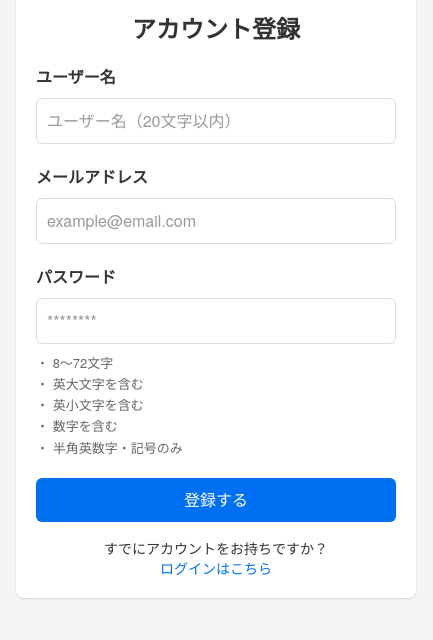
Test: アカウント登録画面 › signup が返した項目ごとのエラーを該当の入力欄に表示し、入力し直すと消える
Type "taro" into the field labelled "ユーザー名" at (216, 121), box [36, 98, 396, 144]
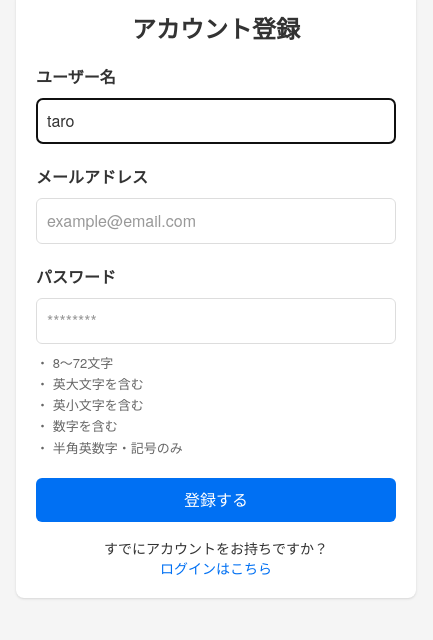
Type "taro@example.com" into the field labelled "メールアドレス" at (216, 221), box [36, 198, 396, 244]
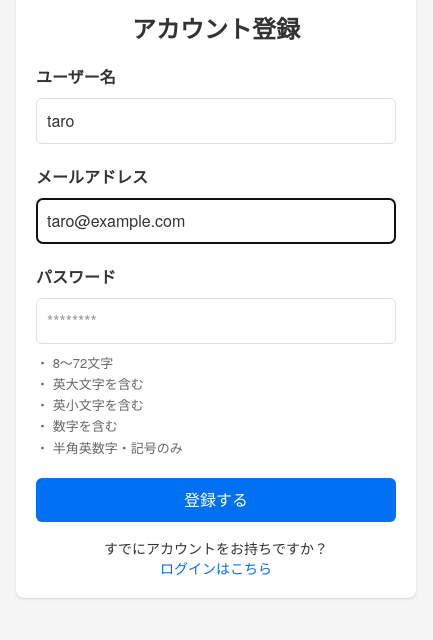
Type "Password123" into the password field labelled "パスワード" at (216, 321), box [36, 298, 396, 344]
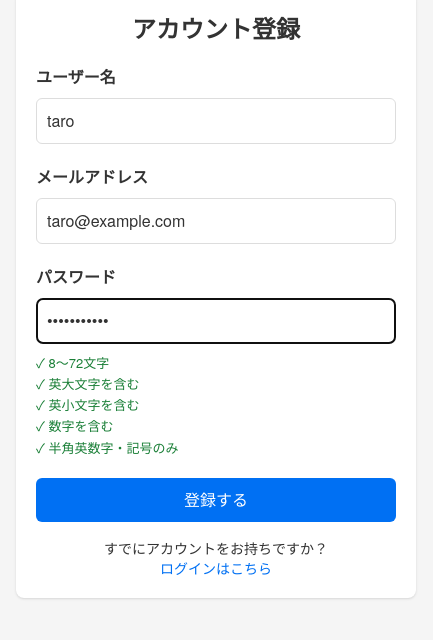
Click the button "登録する" at (216, 500), box [36, 478, 396, 522]
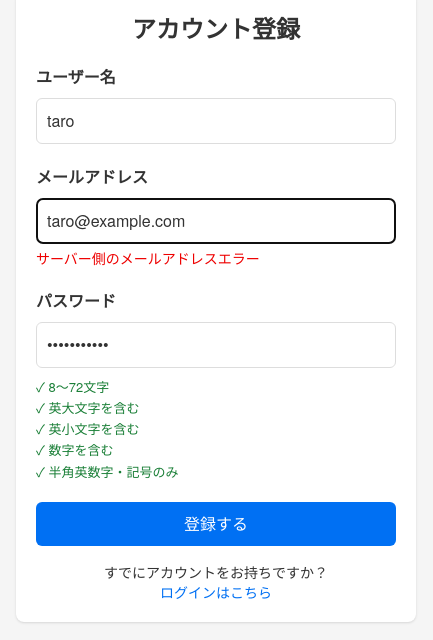
Expected: the text "サーバー側のメールアドレスエラー" is shown, [36, 248, 260, 268]
Type "x" into the field labelled "メールアドレス" at (216, 221), box [36, 198, 396, 244]
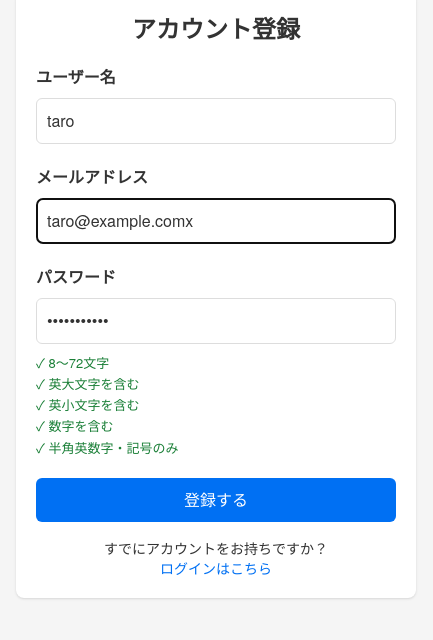
Expected: the text "サーバー側のメールアドレスエラー" is gone
